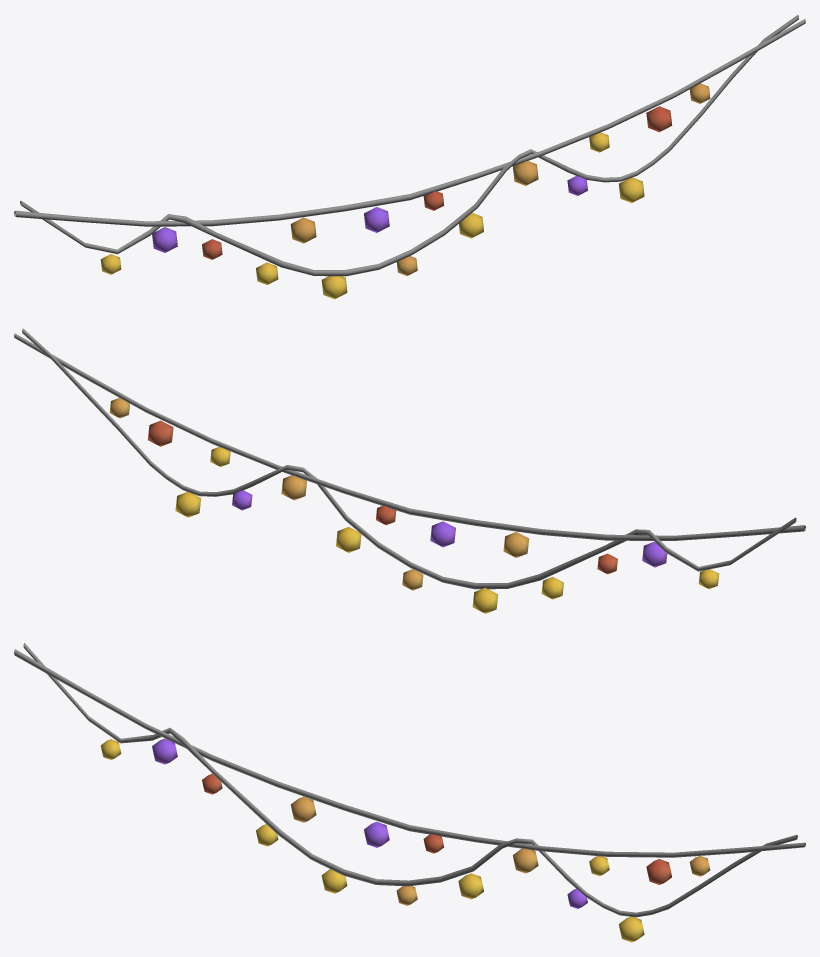
Rendered from pref_sm_city_light03b_snow_lv3.fbx.
The picture shows the model from 3 angles, top to bottom: view 1: azimuth 30°, elevation 25°; view 2: azimuth 150°, elevation 25°; view 3: azimuth 330°, elevation 25°; orthographic projection.
Visible parts, largest first — view 1: pref_sm_city_light03b_snow_lv3; view 2: pref_sm_city_light03b_snow_lv3; view 3: pref_sm_city_light03b_snow_lv3.
Part boxes in pixels (x1,y1,x2,y2): pref_sm_city_light03b_snow_lv3: (14,15,805,299); pref_sm_city_light03b_snow_lv3: (14,328,805,613); pref_sm_city_light03b_snow_lv3: (14,643,805,942).
Bounding box in the file's own units: 11.37 × 2.39 × 0.3084.
